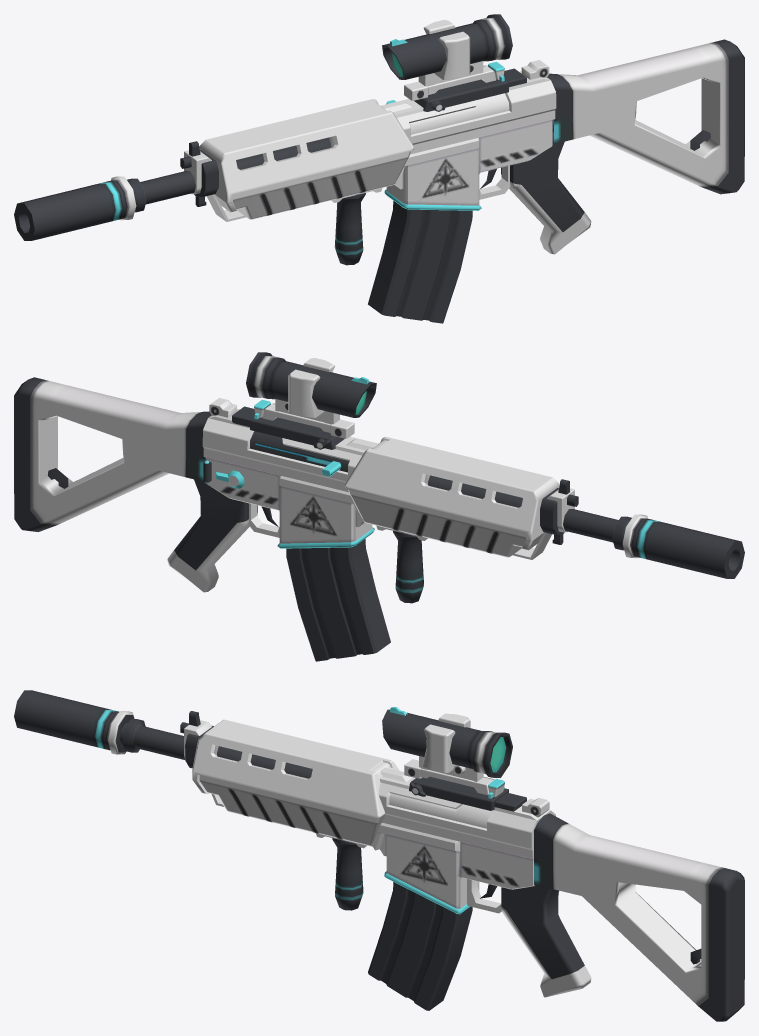
The model's file is weapon.glb.
3 views of the same model, one above another, from view 1: azimuth 30°, elevation 25°; view 2: azimuth 150°, elevation 25°; view 3: azimuth 330°, elevation 25° (orthographic).
Parts seen in each view (by area): view 1: Object_2; view 2: Object_2; view 3: Object_2.
Boxes of the visible parts, left/top/right/bottom form: Object_2: left=14, top=14, right=744, bottom=323; Object_2: left=14, top=352, right=744, bottom=661; Object_2: left=14, top=690, right=744, bottom=1021.
Bounding box in the file's own units: 0.5707 × 0.2205 × 0.0545.
1 material, 1 textured.
